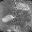people: (1, 14, 15, 23)
